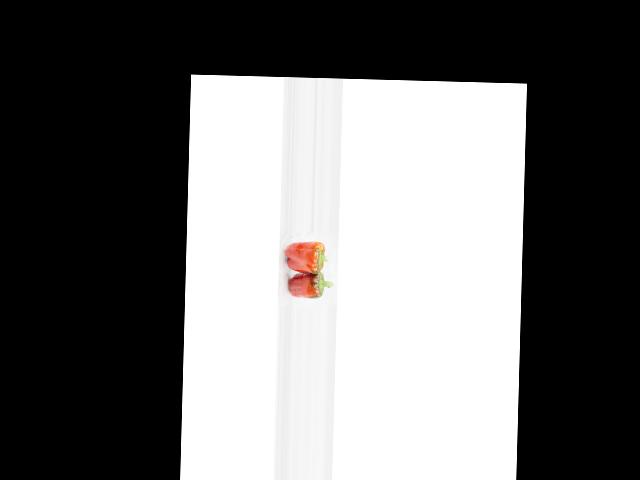bell_pepper: (284, 235, 331, 273)
